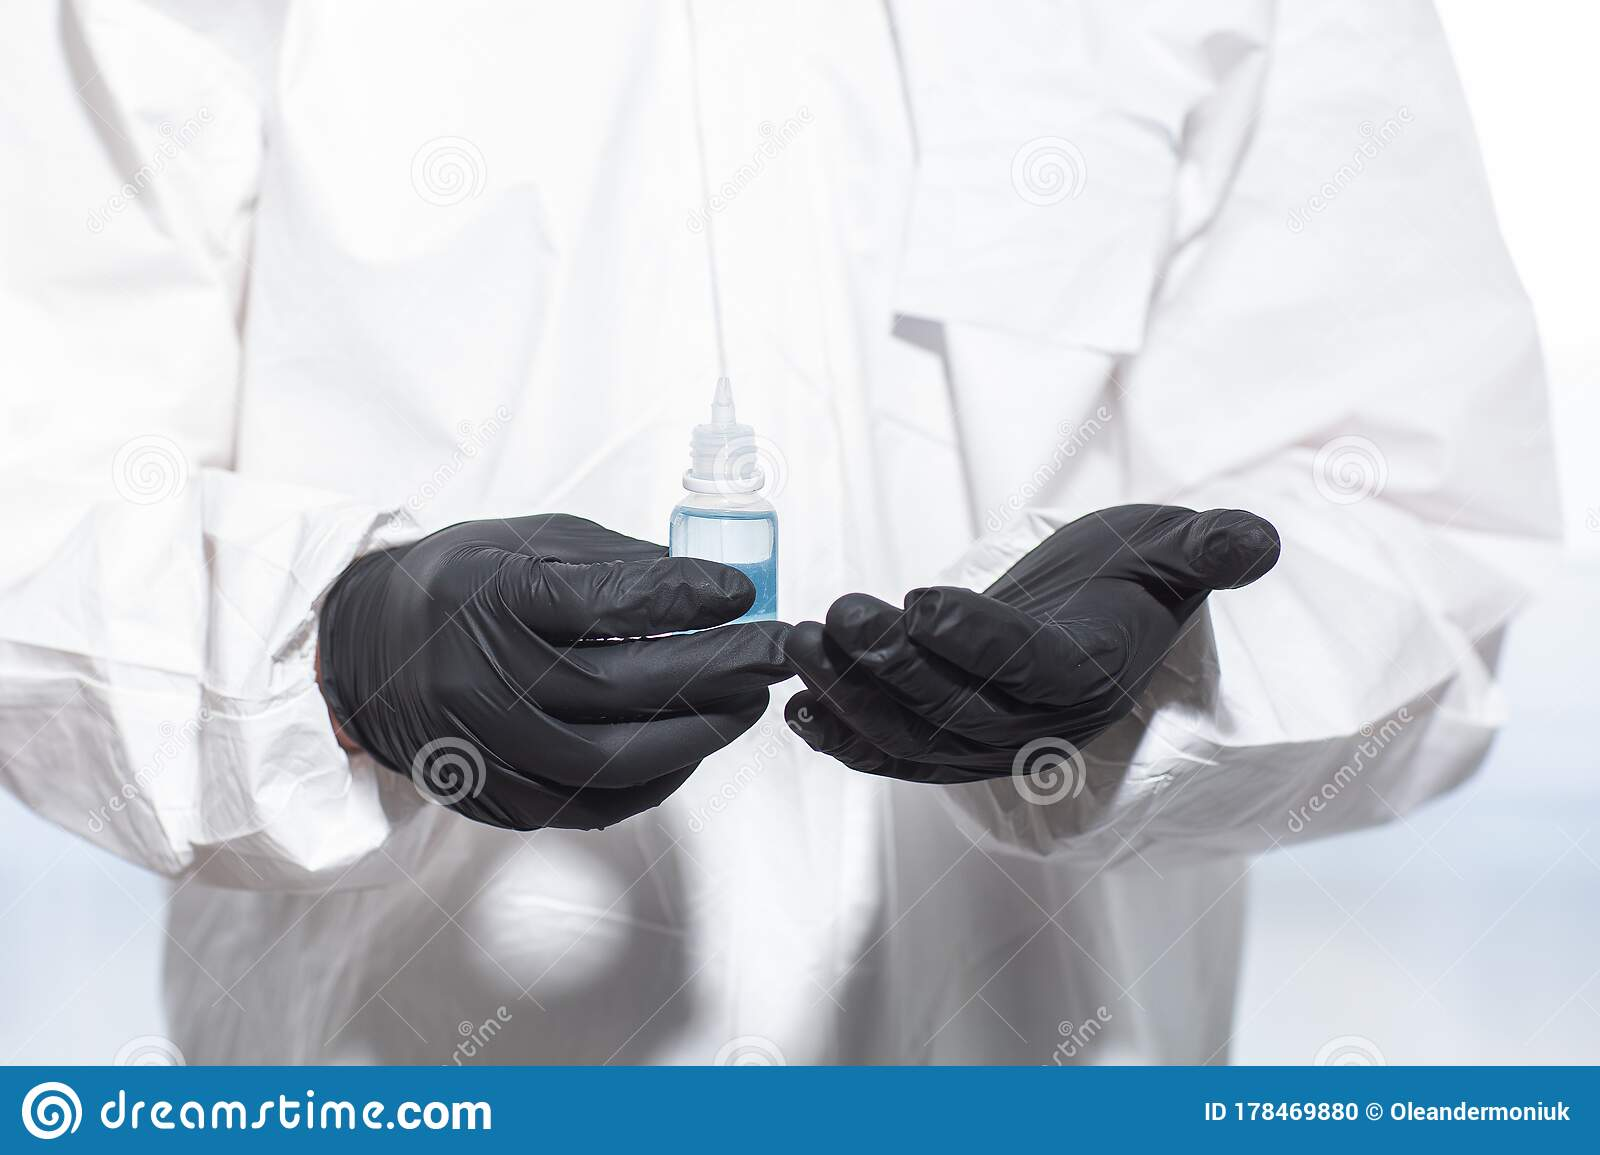Gloves: (301, 513, 784, 845), (784, 488, 1293, 800)
